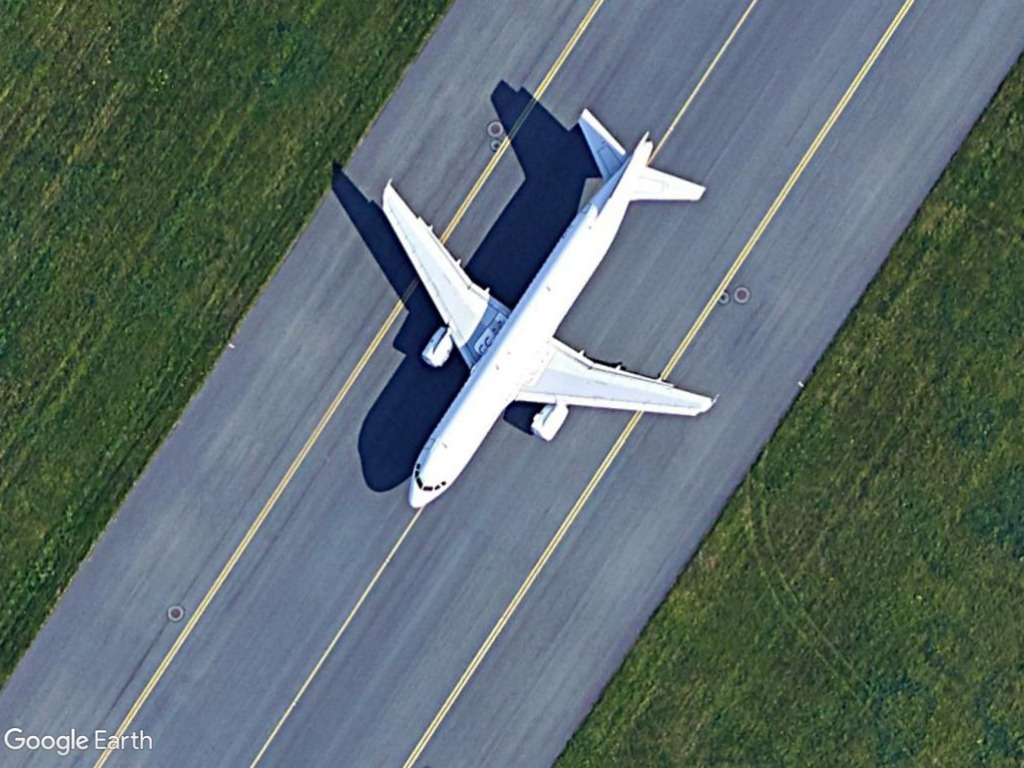airliner: (371, 104, 725, 517)
